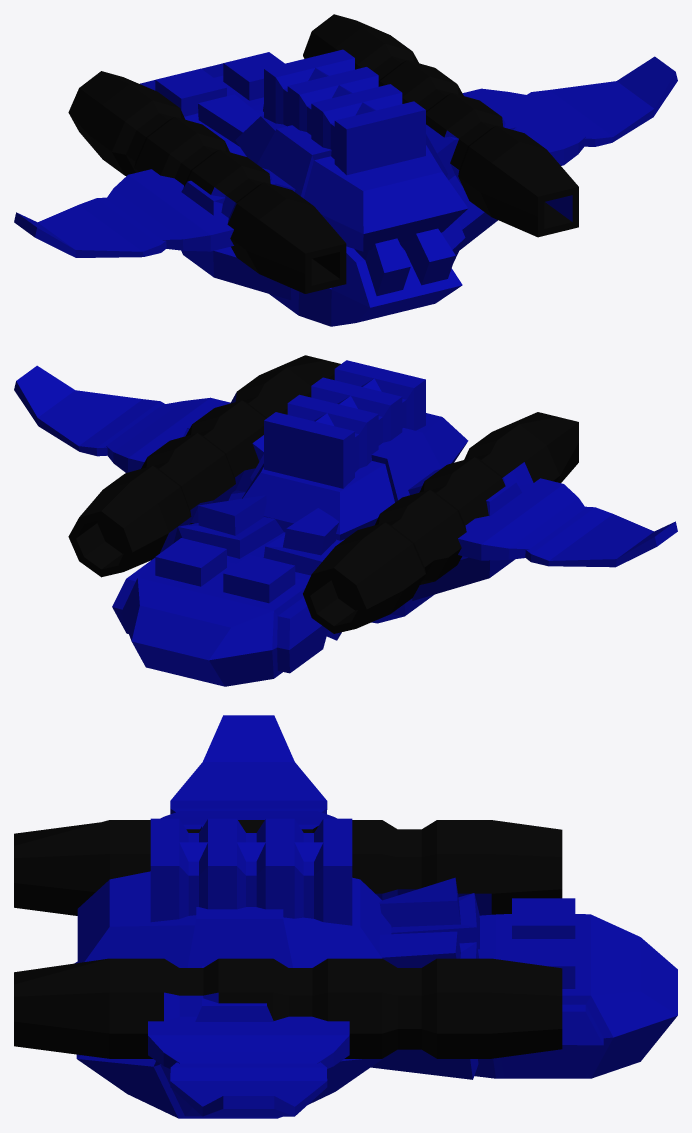
Rendered from blue1.fbx.
3 views of the same model, one above another, from view 1: azimuth 30°, elevation 25°; view 2: azimuth 150°, elevation 25°; view 3: azimuth 270°, elevation 25° (orthographic). The views are drawn at different scales.
Visible parts, largest first — view 1: Cube; view 2: Cube; view 3: Cube.
Part boxes in pixels (box(x1,y1,x2,y2)): Cube: box(14, 14, 677, 326); Cube: box(14, 355, 677, 686); Cube: box(14, 715, 677, 1118).
Size of the model in its own units: 84.4 by 25.71 by 61.81.
